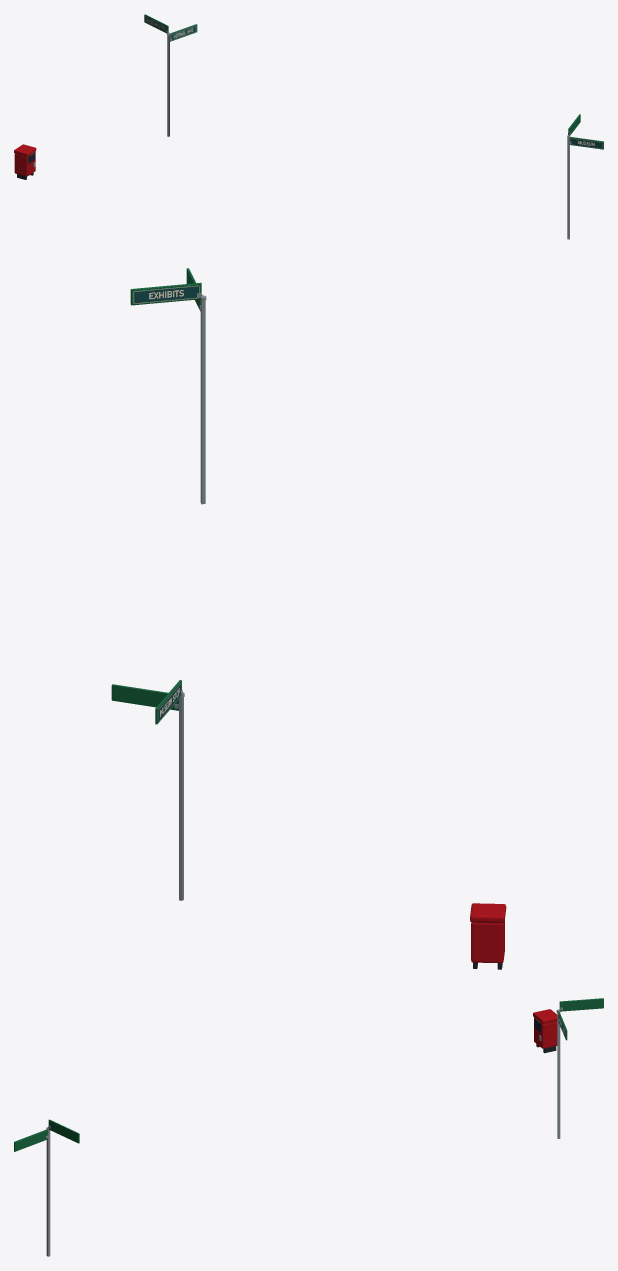
The model's file is museum.glb.
3 renders of one model, top to bottom at view 1: azimuth 30°, elevation 25°; view 2: azimuth 150°, elevation 25°; view 3: azimuth 270°, elevation 25°, orthographic. The views are drawn at different scales.
Parts seen in each view (by area): view 1: geometry_02c38a2b06109, geometry_0, geometry_090f864e49da7; view 2: geometry_02c38a2b06109, geometry_0, geometry_1aea8171f23ba, geometry_090f864e49da7, geometry_3; view 3: geometry_02c38a2b06109, geometry_1, geometry_0, geometry_1aea8171f23ba, geometry_090f864e49da7.
Part boxes in pixels (<box>): geometry_02c38a2b06109: <box>14,144,36,176</box>; geometry_0: <box>567,132,571,239</box>; geometry_090f864e49da7: <box>165,30,171,136</box>; geometry_02c38a2b06109: <box>470,903,506,963</box>; geometry_0: <box>197,293,206,504</box>; geometry_1aea8171f23ba: <box>111,680,181,724</box>; geometry_090f864e49da7: <box>174,689,184,900</box>; geometry_3: <box>133,285,199,304</box>; geometry_02c38a2b06109: <box>533,1009,557,1048</box>; geometry_1: <box>14,1119,79,1151</box>; geometry_0: <box>46,1125,50,1256</box>; geometry_1aea8171f23ba: <box>558,998,603,1040</box>; geometry_090f864e49da7: <box>556,1007,562,1138</box>.
Size of the model in its own units: 12.02 by 3.37 by 13.13.
11 materials, 5 textured.
